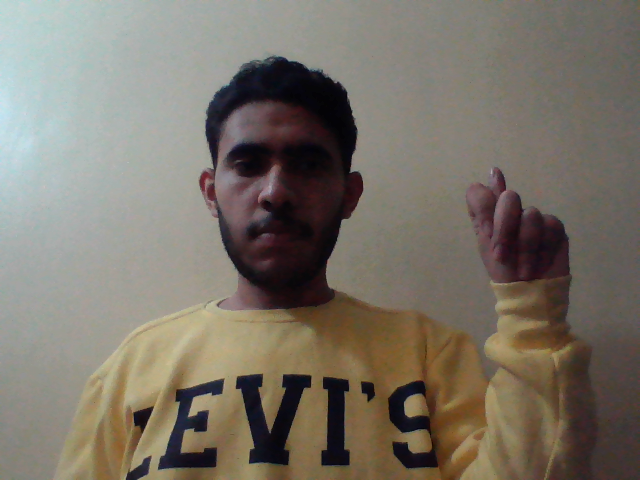T: (458, 159, 580, 302)
